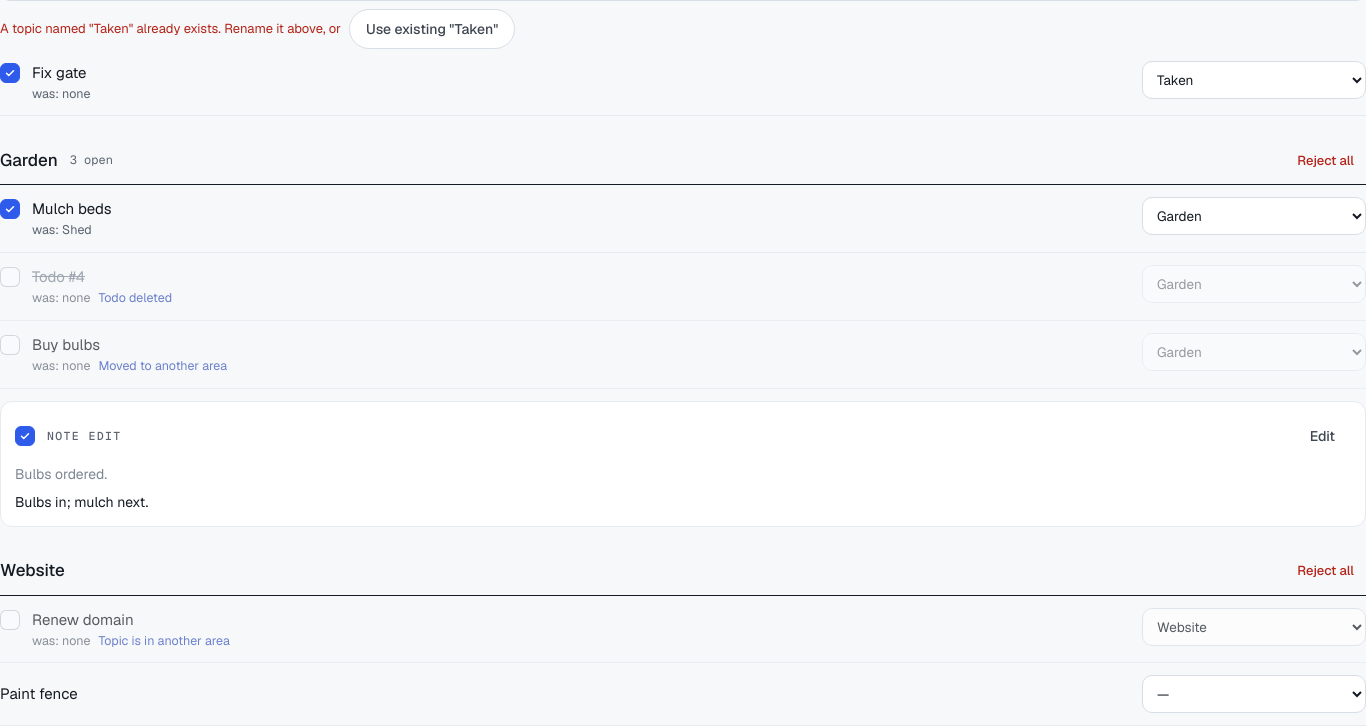
review sections › the Unassigned tab adds a row to the chosen section
The image size is (1366, 726).
(page scrolled)
Step 1. Select "Garden" in the dropdown named "Topic for \"Paint fence\"" → (1254, 694), box [1142,675,1365,713]
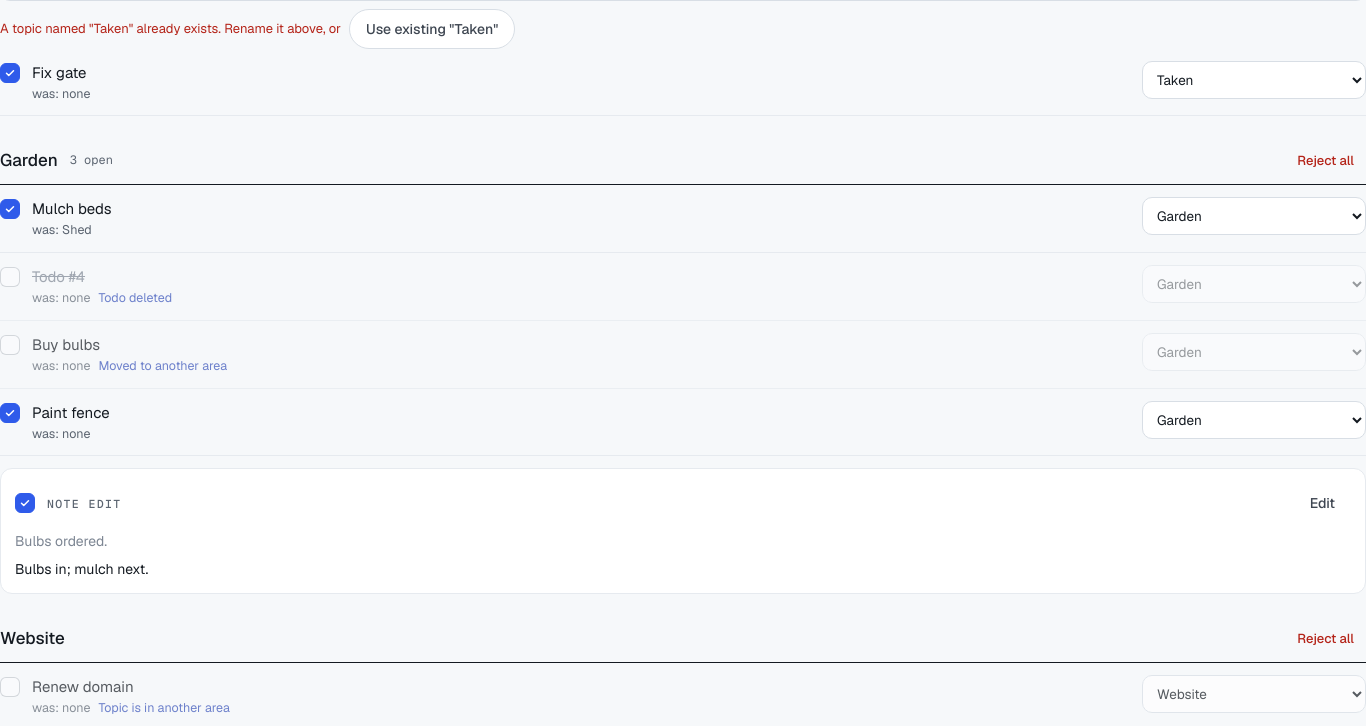
Result: the text "Paint fence" is shown at [32,402,110,422]
